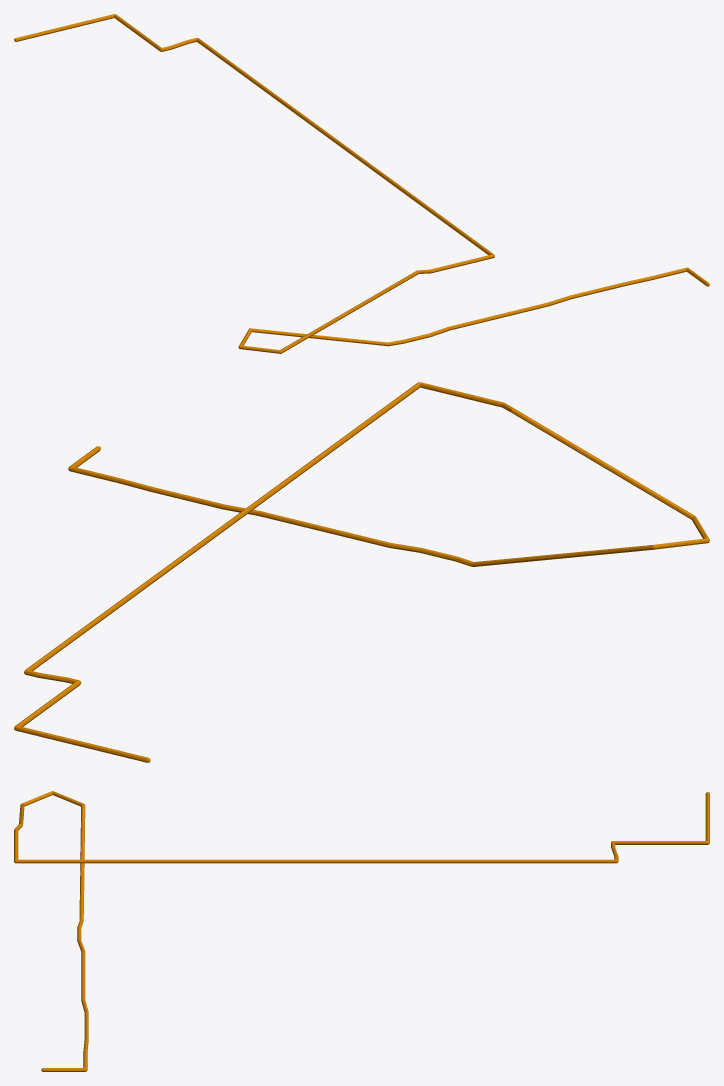
The picture shows the model from 3 angles, top to bottom: view 1: azimuth 30°, elevation 25°; view 2: azimuth 150°, elevation 25°; view 3: azimuth 270°, elevation 25°; orthographic projection. The views are drawn at different scales.
Bounding box in the file's own units: 2595 × 520 × 3304.
